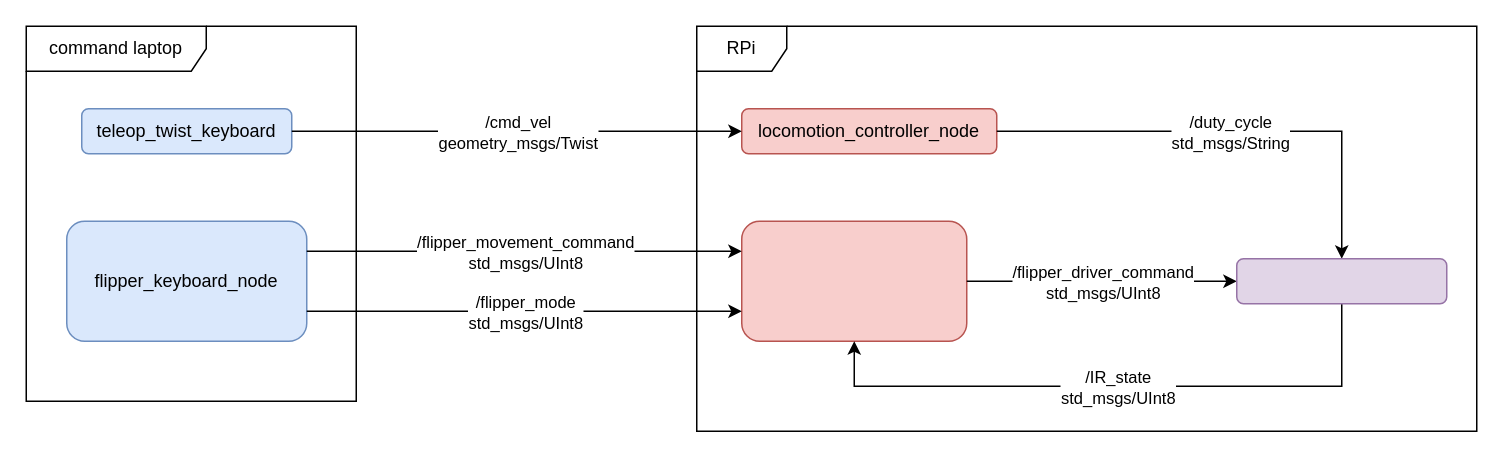
Some shapes in this 1503 by 458 pixel diagram are drawn without their labels. Each missing label, with the centre of its shape:
"flipper_controller_node" belongs at pixel 853 280.
"robot_controller_node" belongs at pixel 1341 280.
